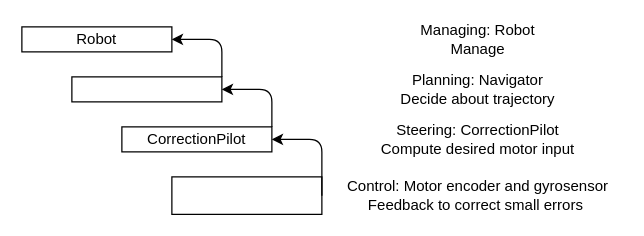
Some shapes in this 644 by 236 pixel diagram are drawn without their labels. Here are the shapes that lost their labels. From the top down, the centre of each, then its label:
At (x=146, y=89): "Navigator".
At (x=246, y=195): "Motor encoder and gyroscopic sensor".
